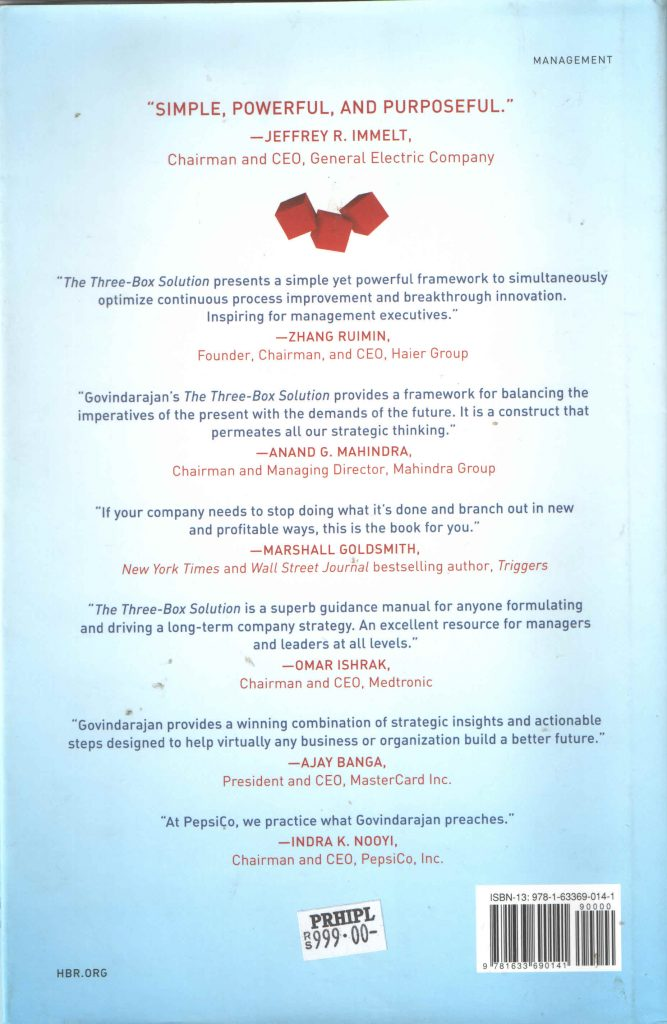barcode: (485, 893, 627, 974)
